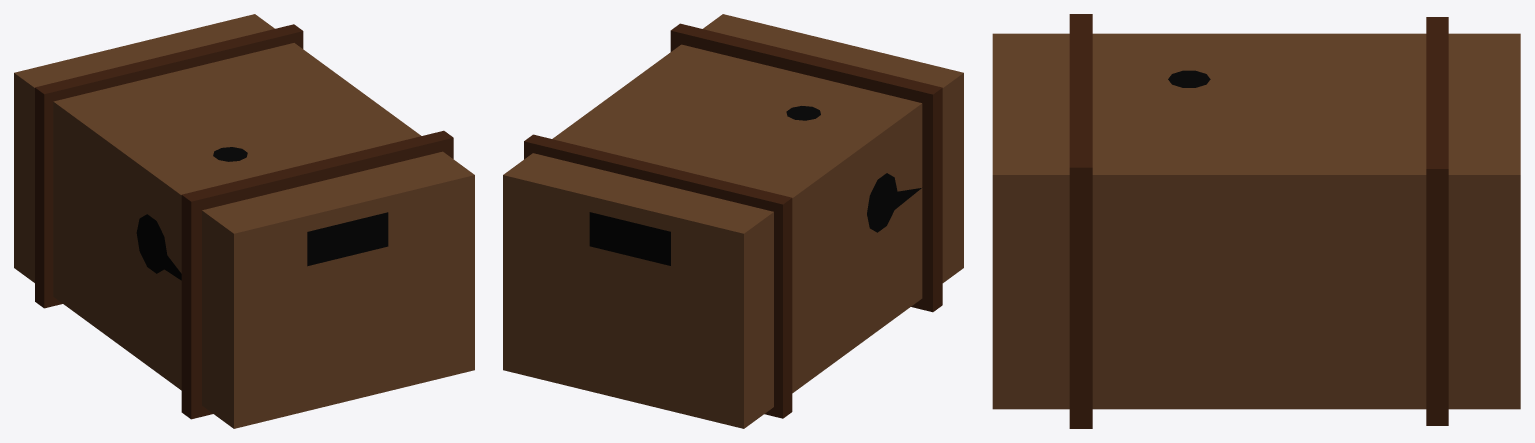
File: Chest Var 1.fbx
3 views of the same model, side by side, from view 1: azimuth 30°, elevation 25°; view 2: azimuth 150°, elevation 25°; view 3: azimuth 270°, elevation 25° (orthographic). The views are drawn at different scales.
Parts seen in each view (by area): view 1: Chest Var 1; view 2: Chest Var 1; view 3: Chest Var 1.
Boxes of the visible parts, bbox=[...] form: Chest Var 1: bbox=[14, 14, 474, 428]; Chest Var 1: bbox=[503, 14, 963, 428]; Chest Var 1: bbox=[992, 14, 1520, 428].
Size of the model in its own units: 54.79 by 43.42 by 79.67.
